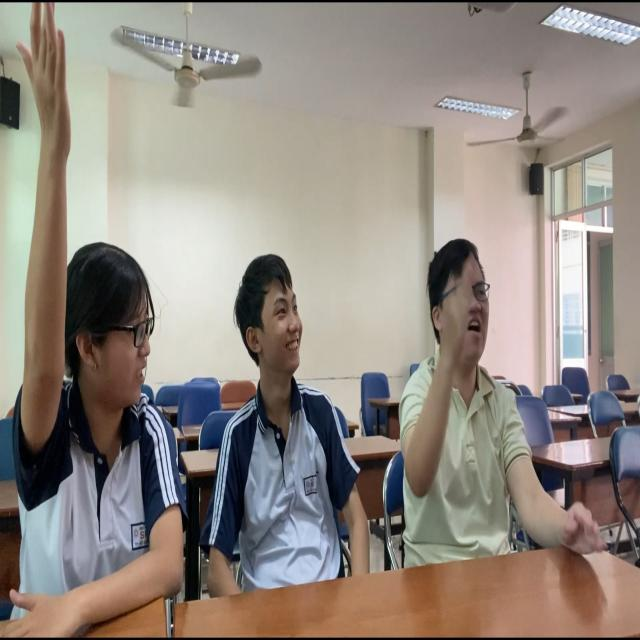raise_hand: (1, 1, 172, 640), (399, 211, 595, 579)
